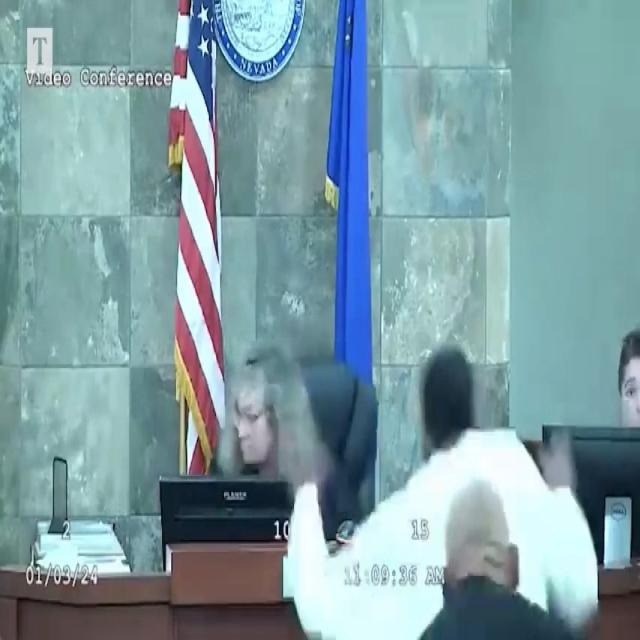fight: (218, 333, 599, 640)
